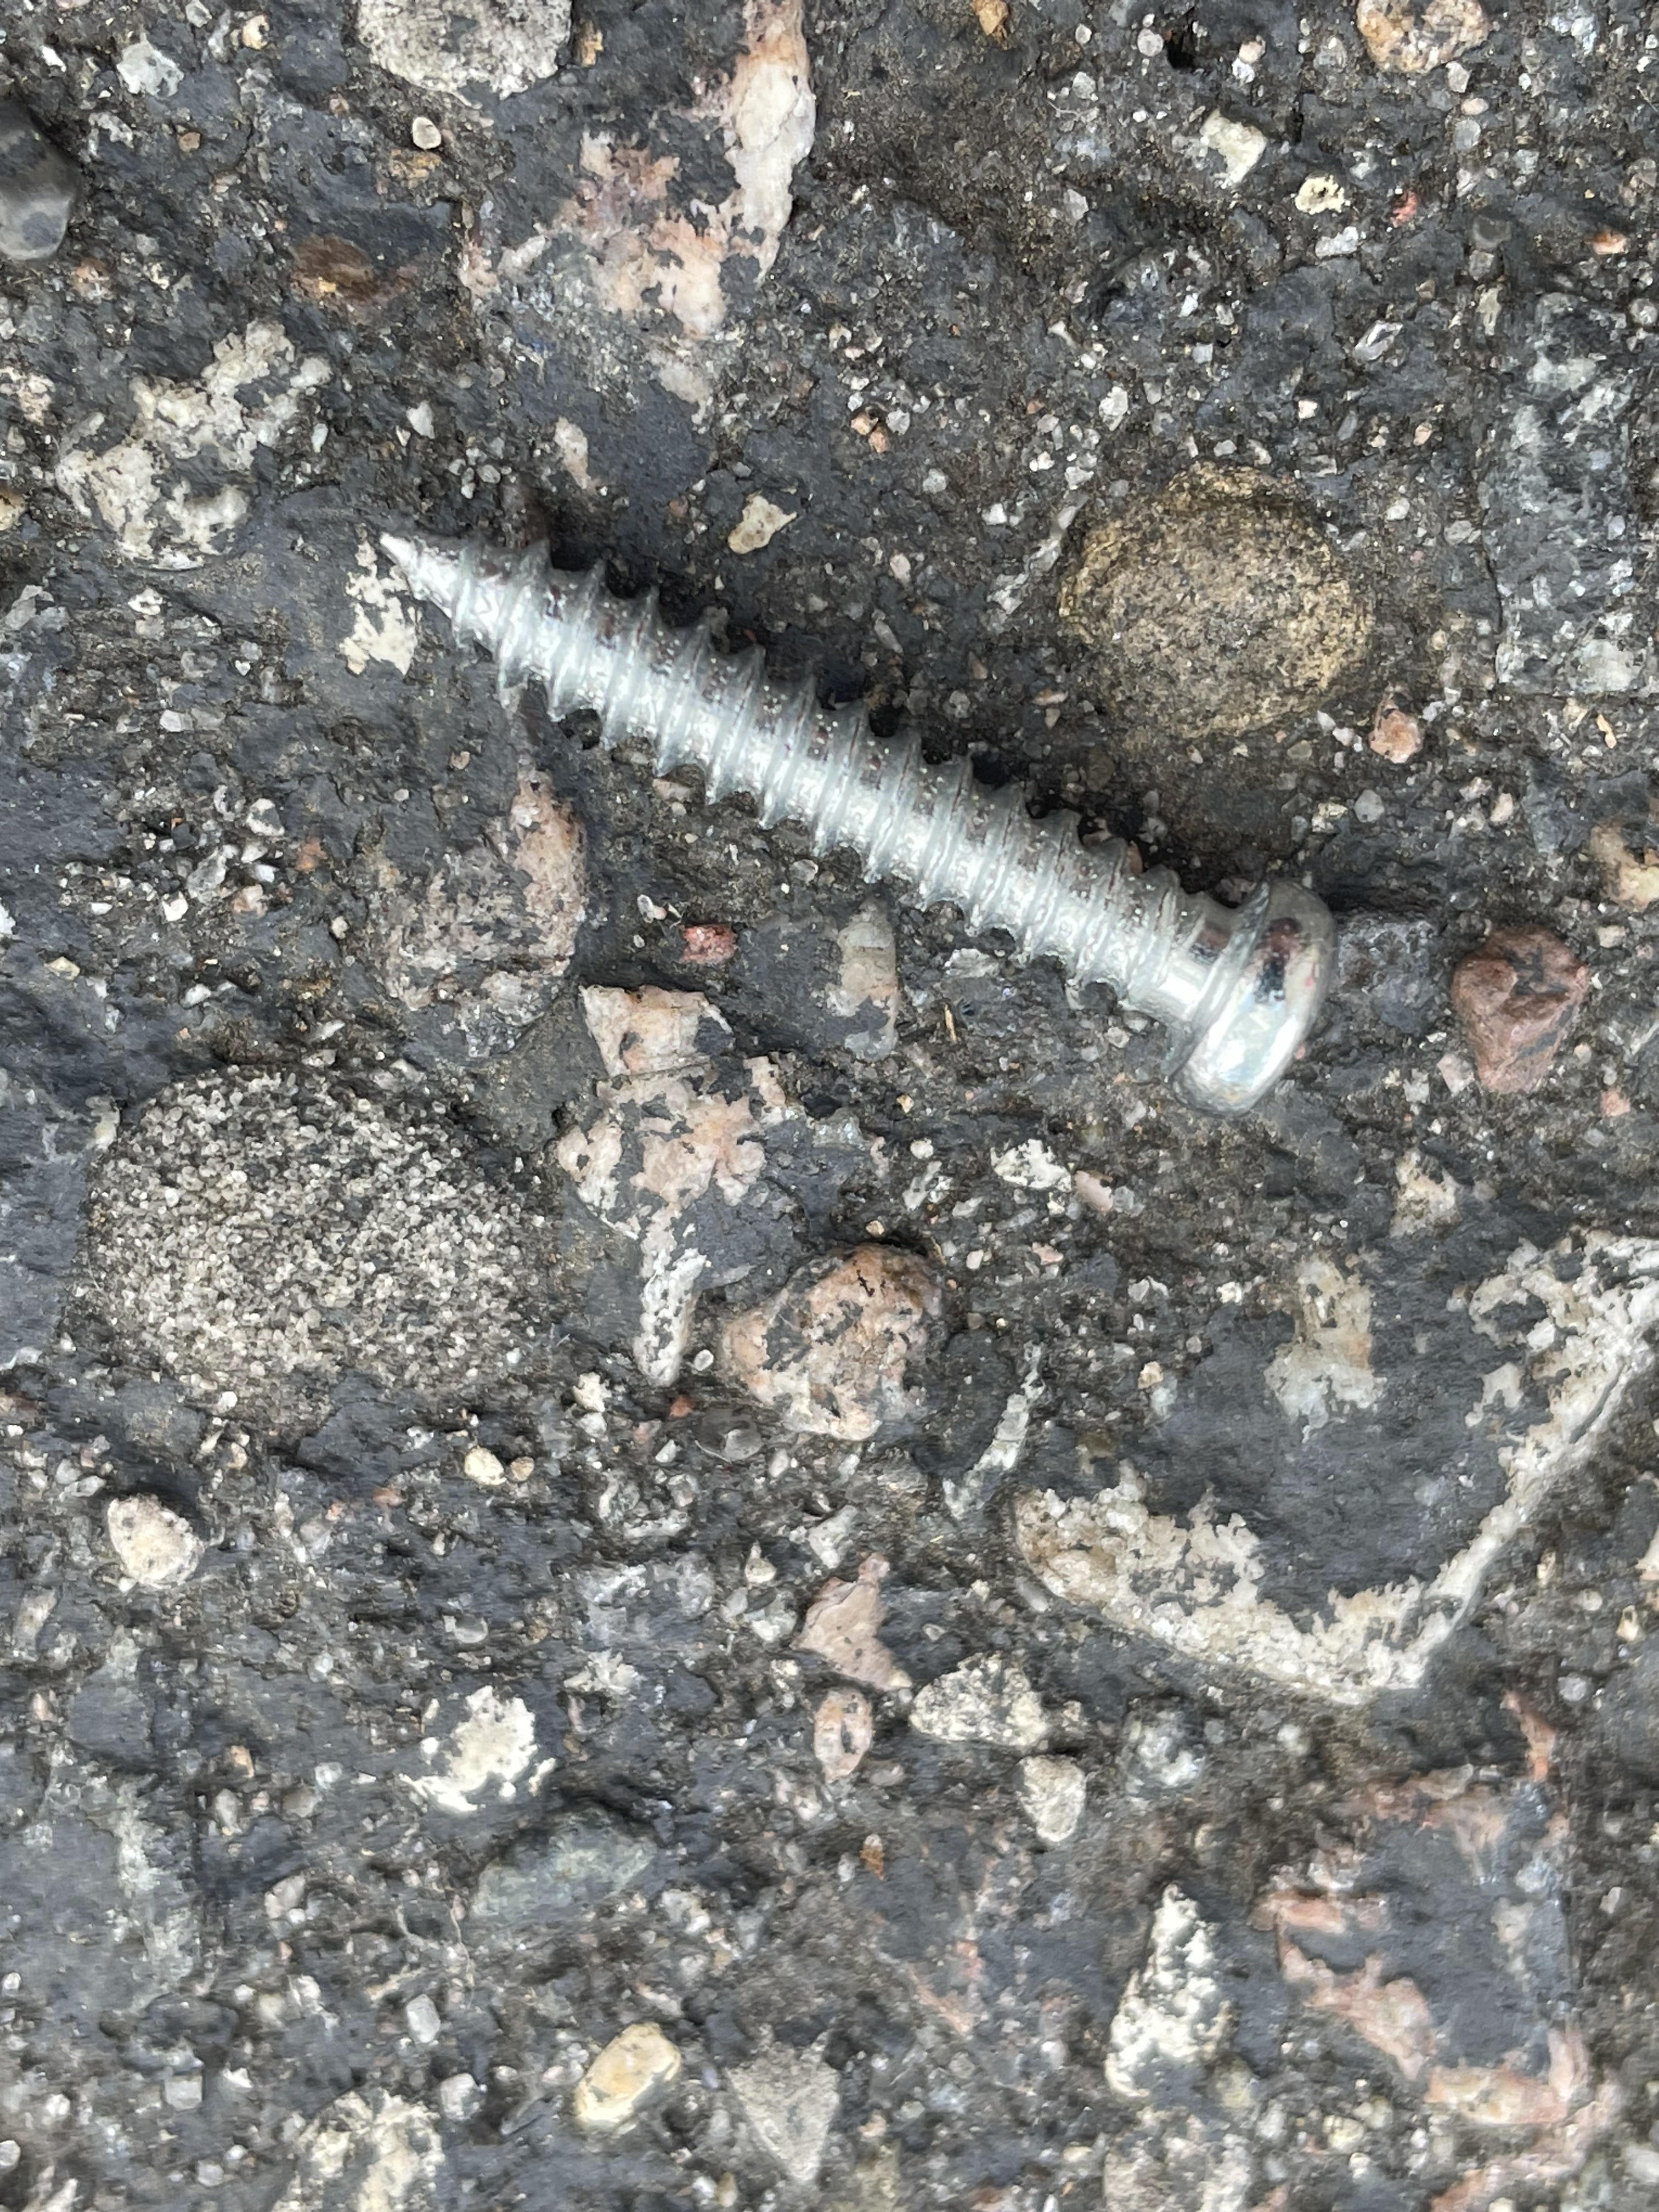screw: (376, 526, 1337, 1116)
